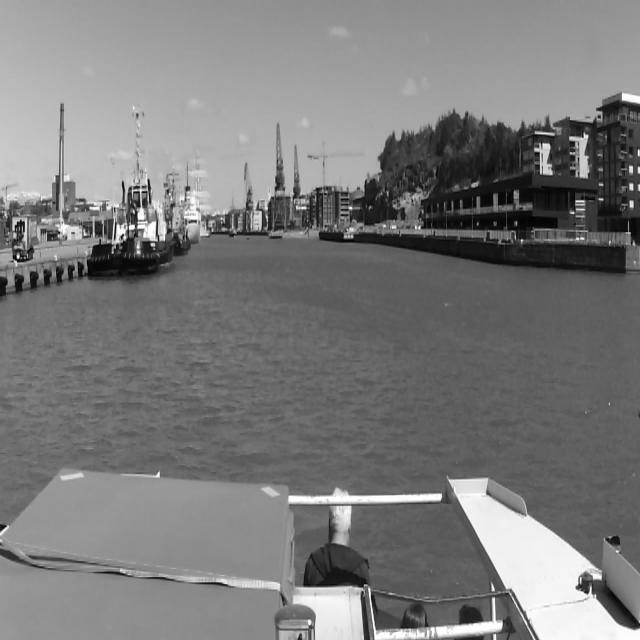ship: (88, 106, 172, 276), (173, 204, 191, 257), (190, 196, 200, 244)
